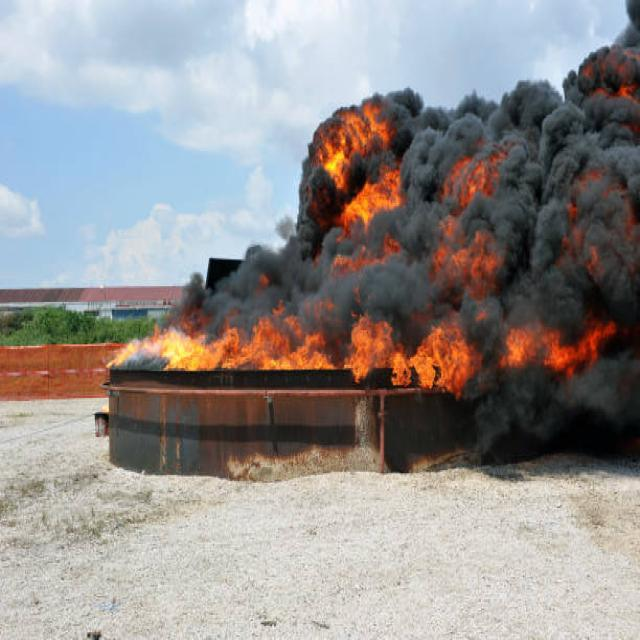Fire: (101, 293, 480, 402), (437, 138, 517, 292), (315, 96, 398, 229), (492, 320, 620, 381)
Smoke: (115, 4, 640, 422)
